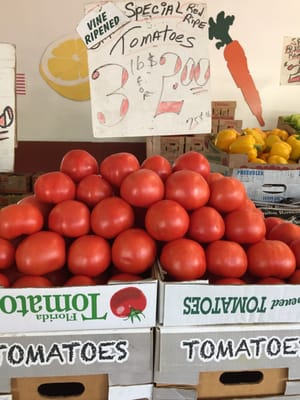steak: (0, 150, 287, 288)
